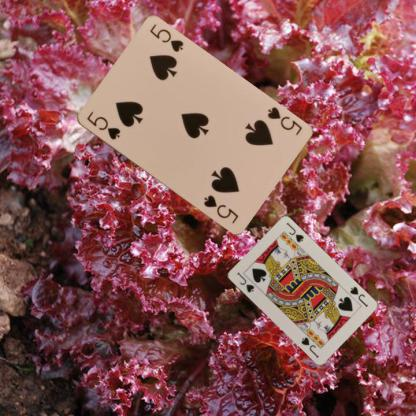5s: (264, 104, 303, 136), (84, 108, 121, 141)
Js: (347, 284, 369, 308), (234, 270, 255, 294)
